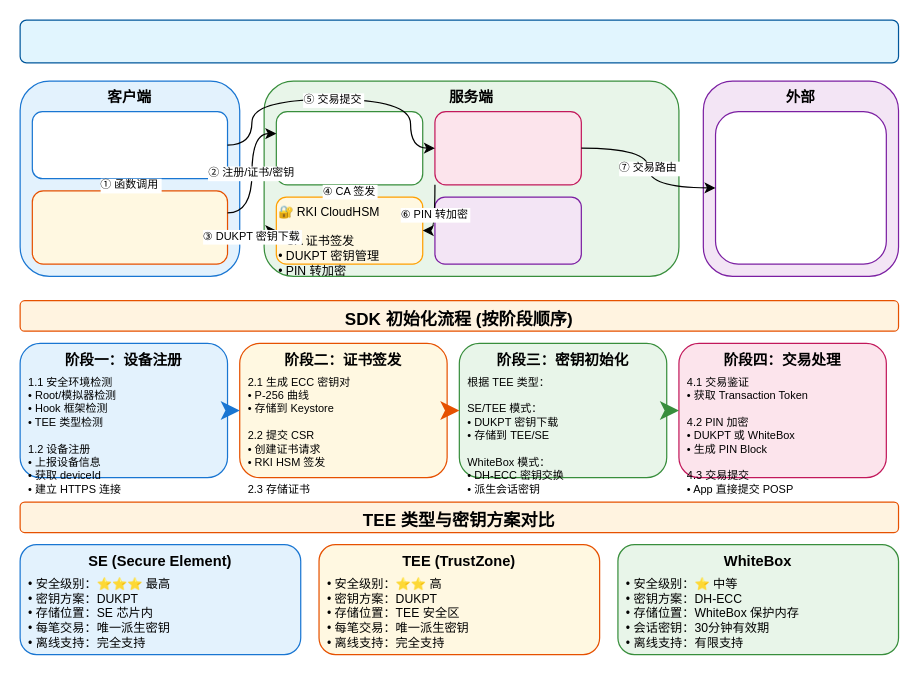
Some shapes in this 919 by 675 pixel diagram are drawn without their labels. The shapes that lost their labels are listed below. From the top down, each one's centre as x and y in pixels, then its label:
At (459,41): "SUNBAY MPoC SDK 系统架构与交互流程".
At (129,144): "📱 Android App • 集成 MPoC SDK • 交易界面 • 直接提交 POSP".
At (349,147): "🖥️ A/M-Backend • 设备注册管理 • 证书签发 • 密钥交换 • 交易鉴证".
At (507,147): "🏦 SUNBAY POSP • 交易处理 • PIN 转加密 • 路由 Processor".
At (800,187): "💳 外部 Processor • TSYS • Fiserv • Elavon • 其他支付处理商".
At (129,227): "🛡️ MPoC SDK (AAR) • 设备注册 • 证书管理 • 密钥初始化 • PIN 加密".
At (507,230): "💳 Processor TSYS/Fiserv/Elavon".
